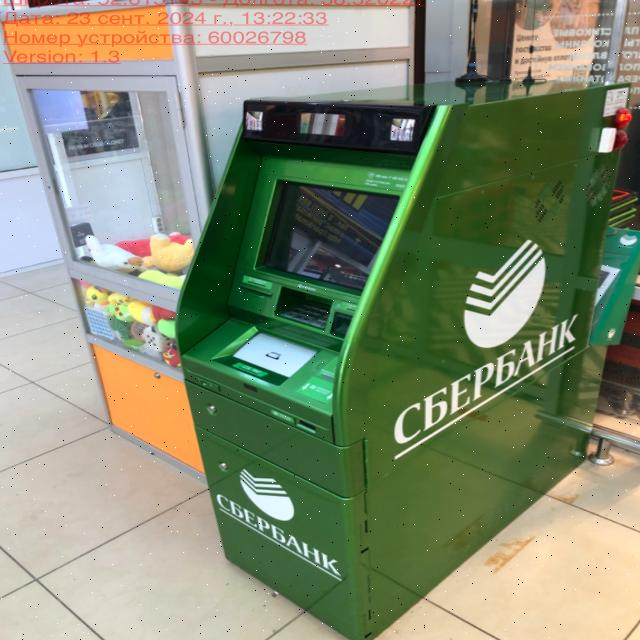bank: (171, 75, 632, 640)
